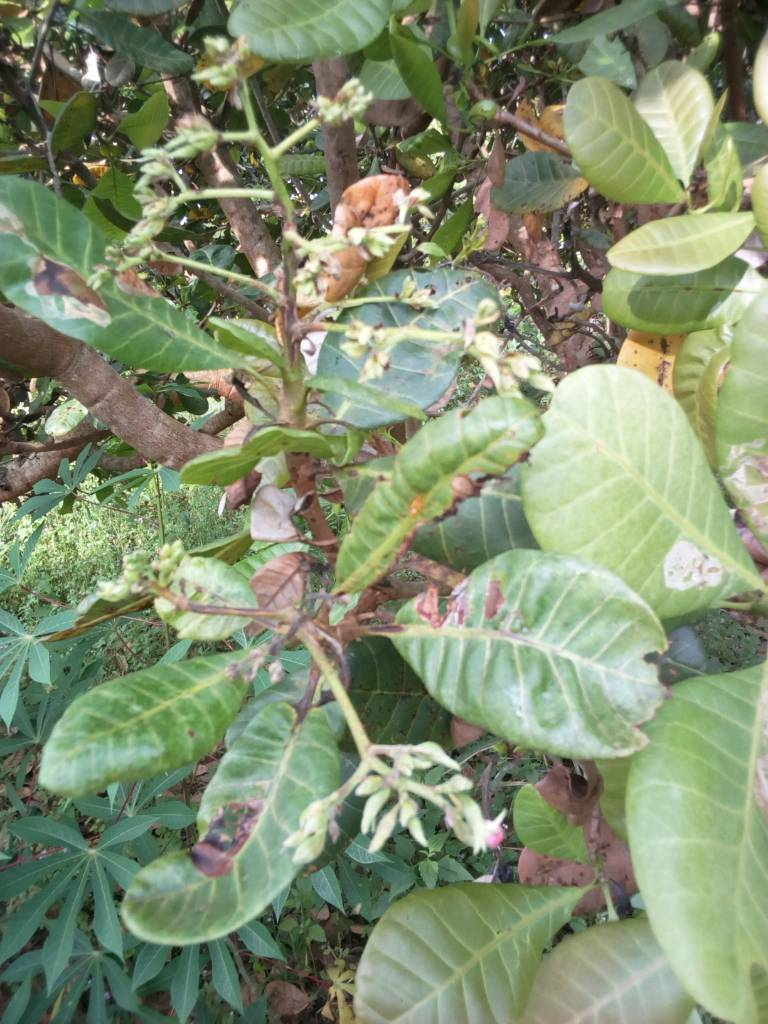Helopeltis anacardii: (386, 555, 668, 757), (124, 702, 335, 942), (336, 385, 536, 600)
